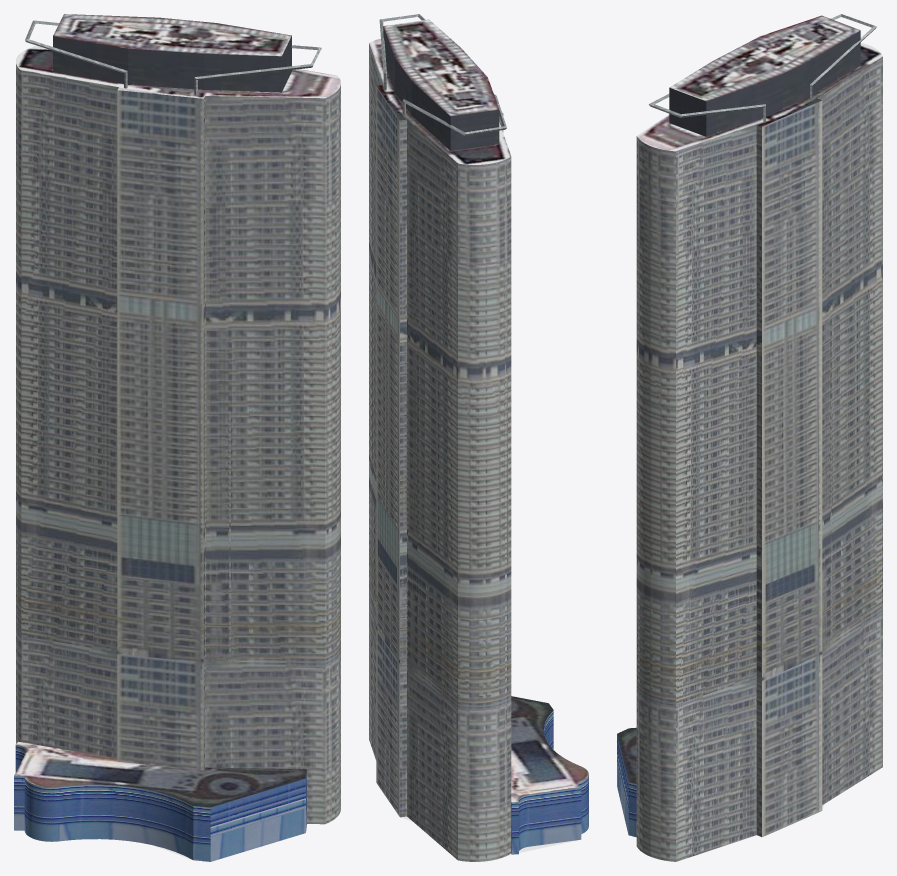
The picture shows the model from 3 angles, left to right: view 1: azimuth 30°, elevation 25°; view 2: azimuth 150°, elevation 25°; view 3: azimuth 270°, elevation 25°; orthographic projection. The views are drawn at different scales.
Visible parts, largest first — view 1: Model; view 2: Model; view 3: Model.
Part boxes in pixels (bbox=[...]): Model: bbox=[14, 14, 340, 861]; Model: bbox=[369, 14, 588, 861]; Model: bbox=[617, 14, 882, 861].
Size of what is drawn, in the model's own units: 78.5 by 210 by 67.77.
